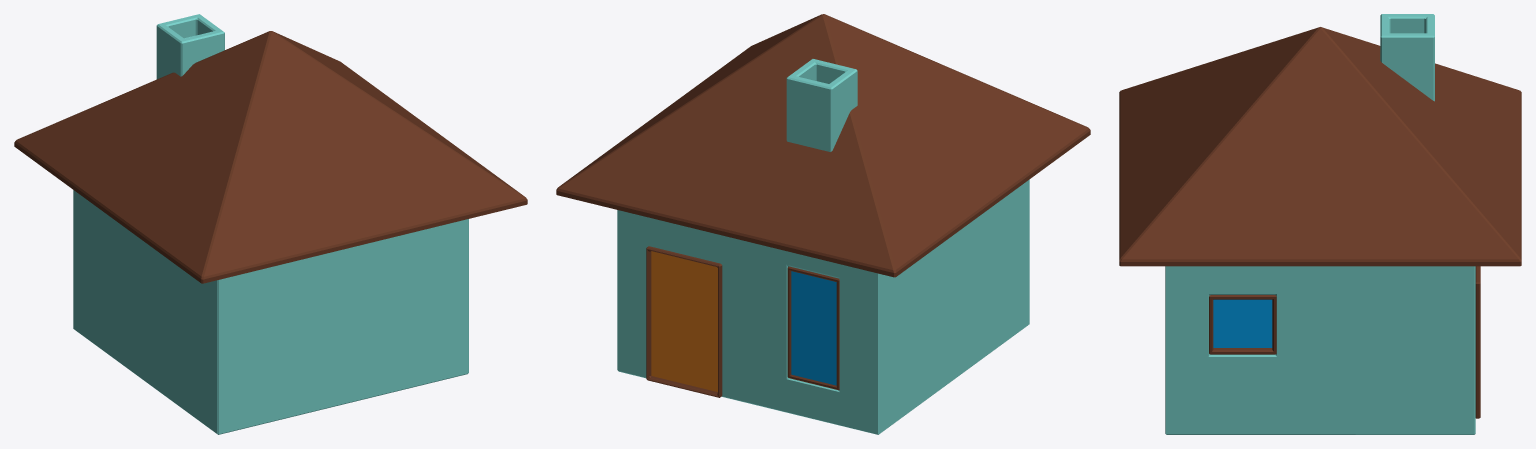
Rendered from house3.fbx.
The picture shows the model from 3 angles, left to right: view 1: azimuth 30°, elevation 25°; view 2: azimuth 150°, elevation 25°; view 3: azimuth 270°, elevation 25°; orthographic projection. The views are drawn at different scales.
Parts seen in each view (by area): view 1: Cube; view 2: Cube; view 3: Cube.
Part boxes in pixels (x1,y1,x2,y2): Cube: (14, 14, 527, 434); Cube: (556, 14, 1090, 434); Cube: (1119, 14, 1521, 434).
Bounding box in the file's own units: 164 × 154 × 164.
